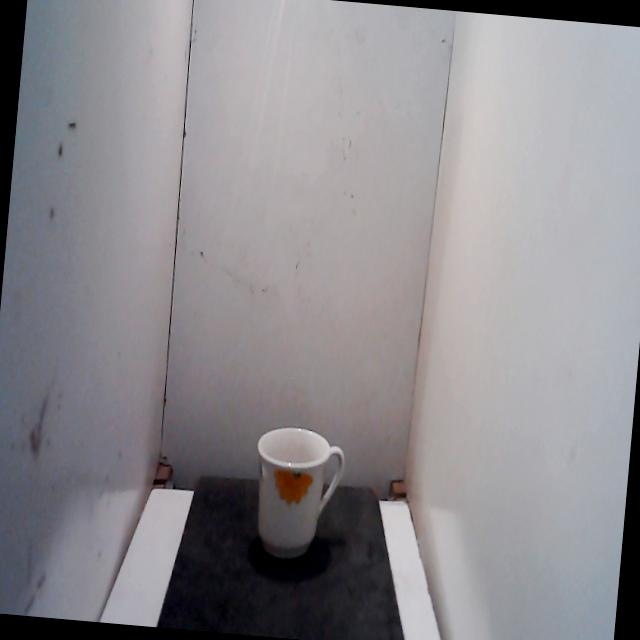vidro: (241, 415, 352, 576)
